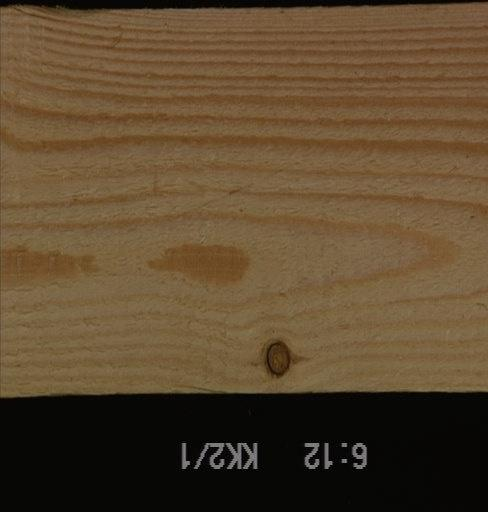dry_knot: (264, 341, 291, 378)
split: (165, 384, 223, 395)
wave: (0, 2, 116, 15)
